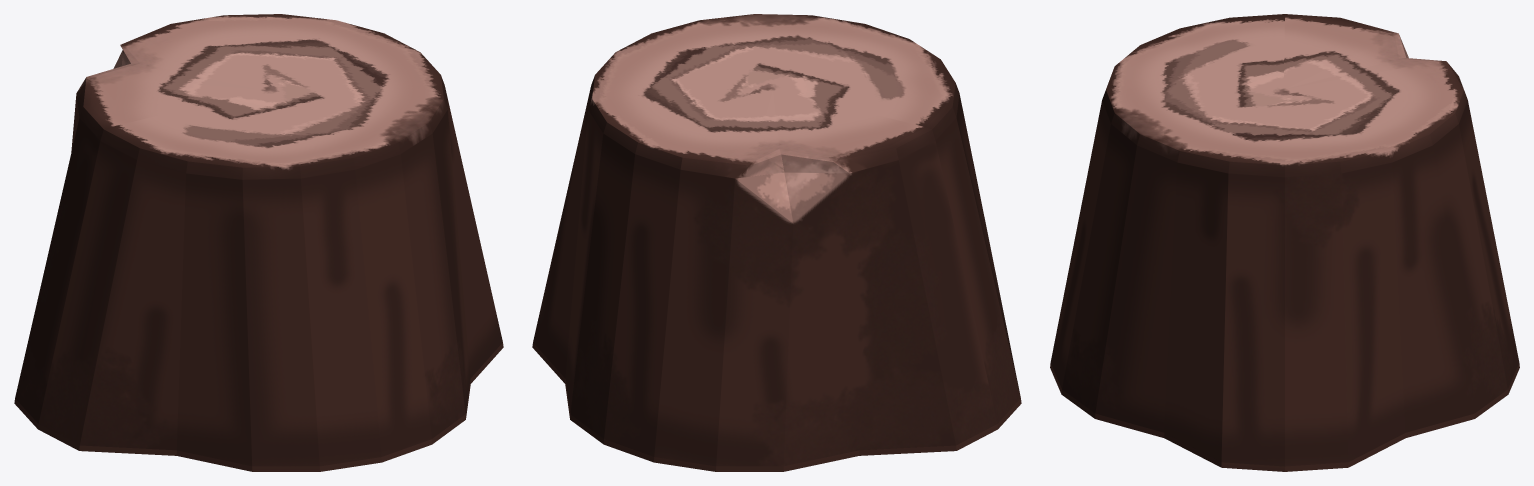
The model's file is wood_01.fbx.
3 views of the same model, side by side, from view 1: azimuth 30°, elevation 25°; view 2: azimuth 150°, elevation 25°; view 3: azimuth 270°, elevation 25° (orthographic). The views are drawn at different scales.
Parts seen in each view (by area): view 1: pCylinder1; view 2: pCylinder1; view 3: pCylinder1.
Part boxes in pixels (<box>): pCylinder1: <box>14,14,503,471</box>; pCylinder1: <box>532,14,1021,471</box>; pCylinder1: <box>1050,14,1519,471</box>.
Size of the model in its own units: 2.8 by 1.74 by 2.63.
